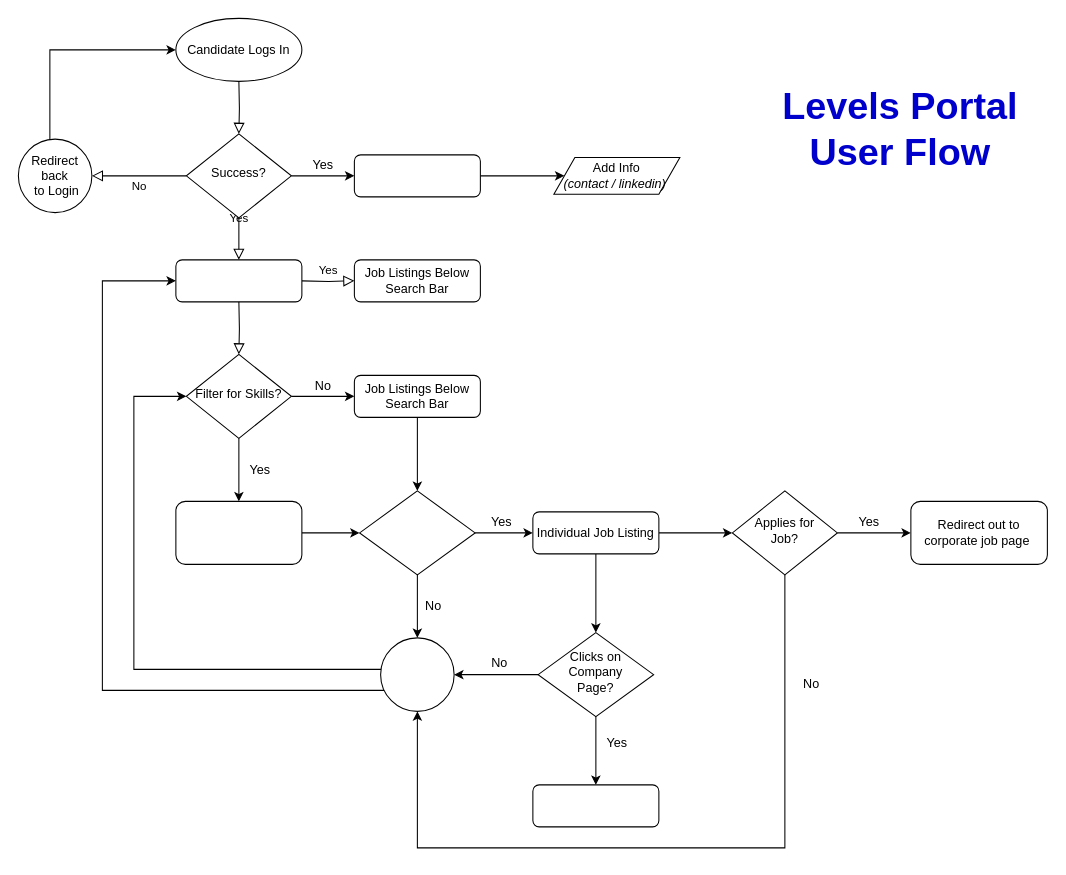
This 1066x875 diagram has some shape labels left out. Here are the shapes that lost their labels. From the top down, the centre of each, then its label:
the point at 416,175: Update Profile
the point at 238,280: Search bar for jobs
the point at 238,532: More Relevant Job Listings Below Search Bar
the point at 417,532: Clicks On Listing?
the point at 417,674: Re-adjust Filters/ Search
the point at 595,805: All Job Listings from Company
